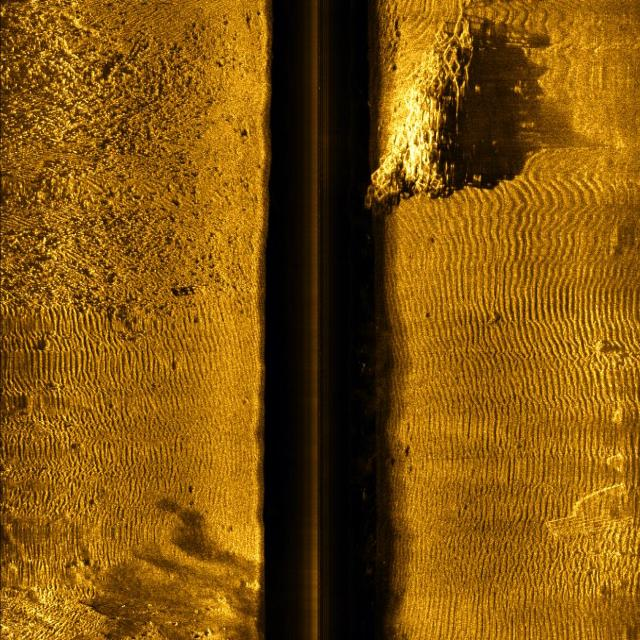artificial reef: (354, 0, 484, 234)
